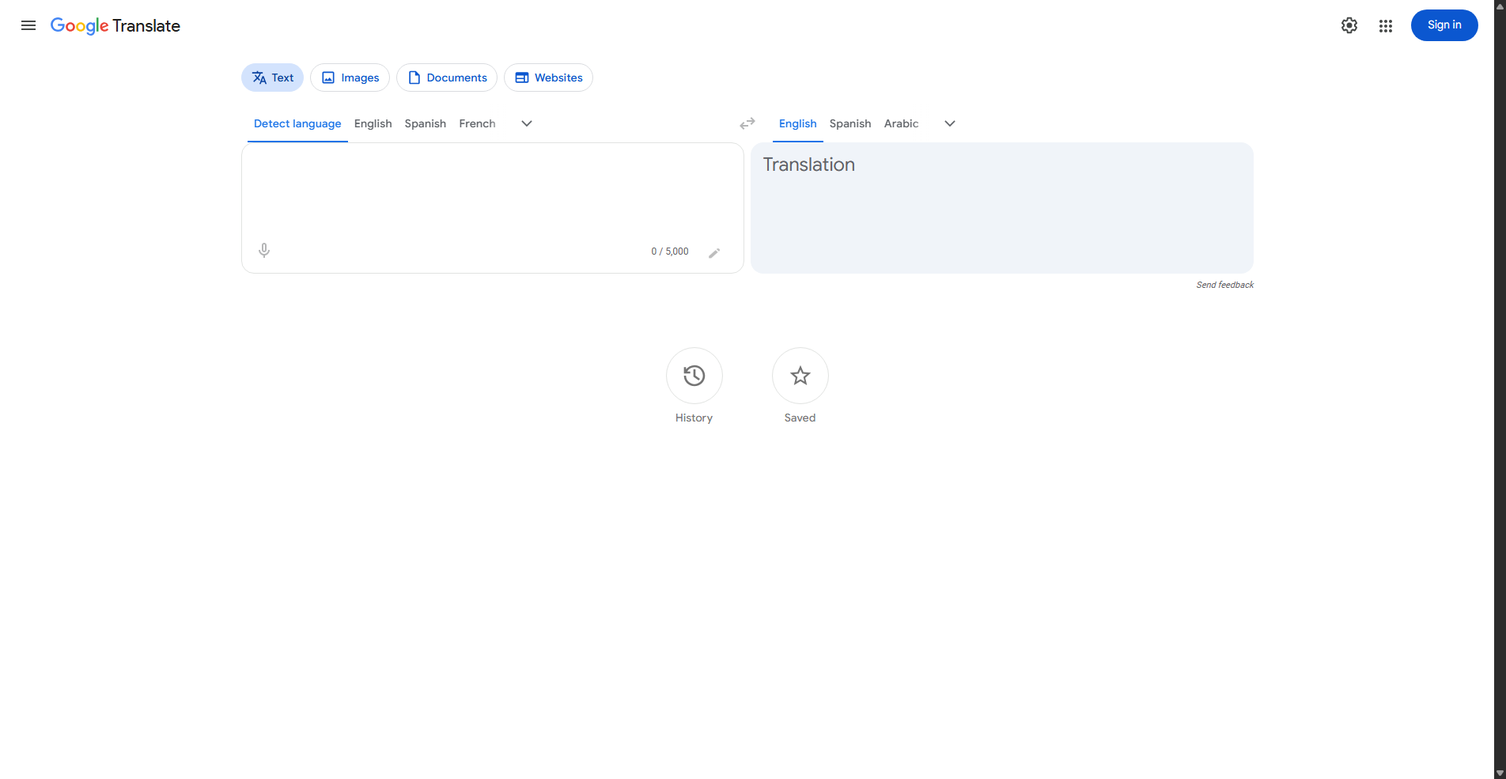button: (247, 104, 347, 142), (396, 63, 497, 92), (504, 63, 593, 92), (310, 63, 390, 92), (398, 104, 452, 142), (823, 104, 877, 142), (347, 104, 398, 142), (772, 104, 823, 142), (452, 104, 502, 142), (241, 63, 304, 92), (877, 104, 925, 142), (9, 6, 47, 44), (1330, 6, 1368, 44), (728, 104, 766, 142), (245, 232, 283, 270), (1370, 10, 1402, 42), (511, 108, 543, 139), (934, 108, 966, 139), (701, 238, 727, 260), (1196, 280, 1253, 290)
link: (51, 8, 180, 46), (666, 347, 723, 424), (772, 347, 829, 424), (1411, 9, 1478, 41)
textarea: (254, 153, 702, 178)
